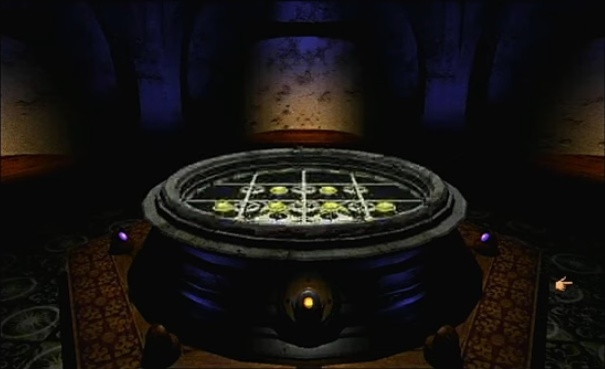Pointer: (553, 272, 575, 293)
